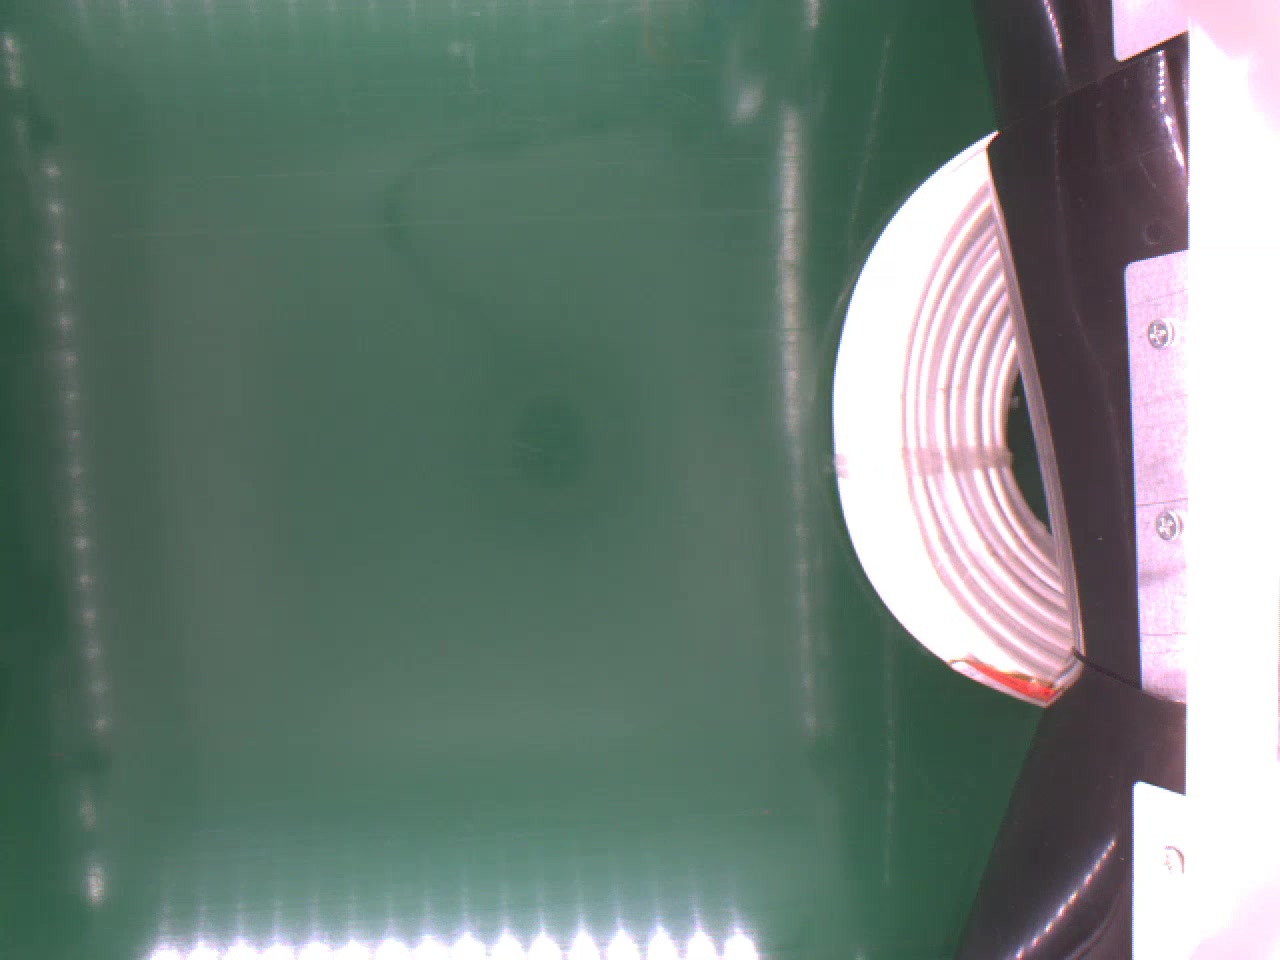white: (828, 128, 1082, 707)
